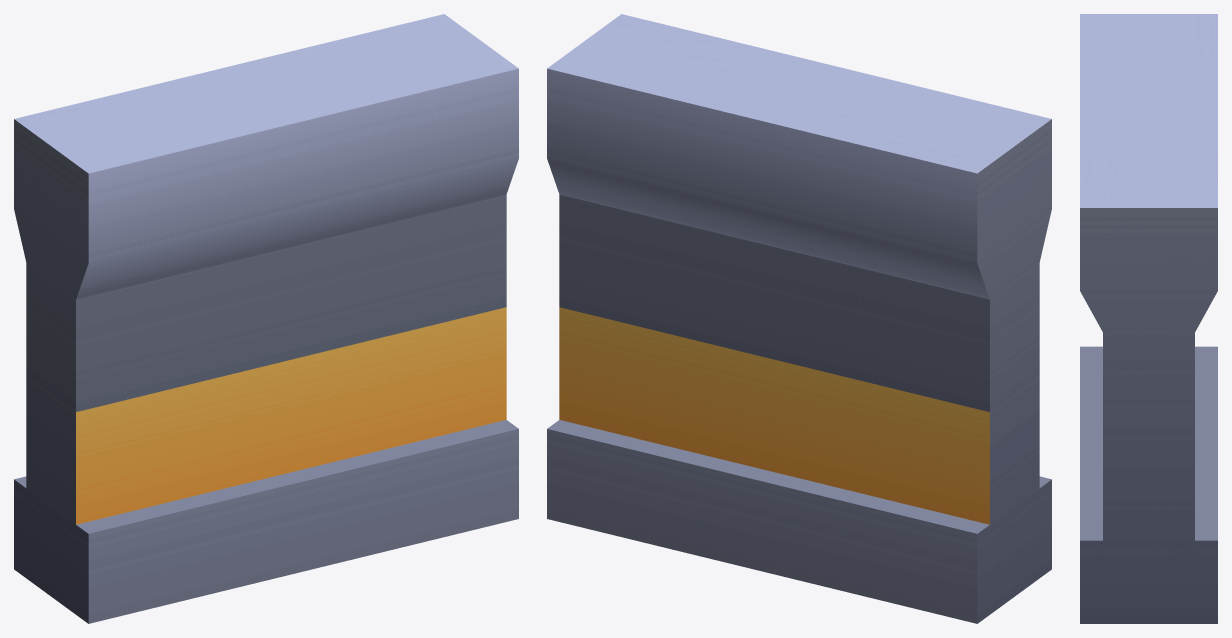
Rendered from wall-banner.glb.
3 views of the same model, side by side, from view 1: azimuth 30°, elevation 25°; view 2: azimuth 150°, elevation 25°; view 3: azimuth 270°, elevation 25° (orthographic). The views are drawn at different scales.
Parts seen in each view (by area): view 1: wall-banner; view 2: wall-banner; view 3: wall-banner.
Part boxes in pixels (x1=…): wall-banner: x1=14, y1=14, x2=518, y2=623; wall-banner: x1=547, y1=14, x2=1051, y2=623; wall-banner: x1=1080, y1=14, x2=1217, y2=623.
Size of the model in its own units: 1 by 1 by 0.3.
1 material, 1 textured.
